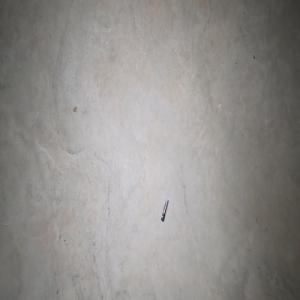Battery: (160, 198, 169, 222)
